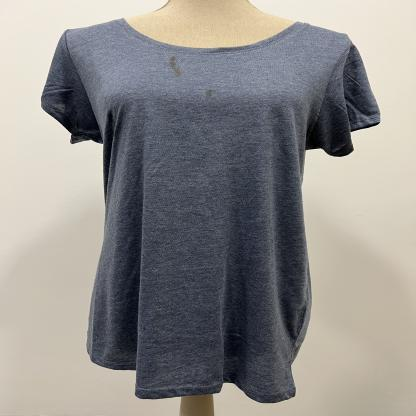stain: (167, 53, 187, 79), (202, 85, 220, 100)
